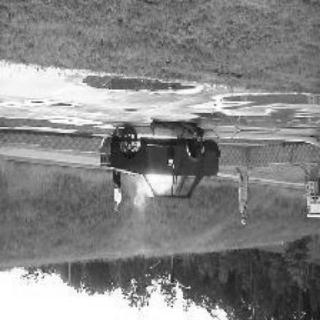Fire: (128, 176, 184, 212), (120, 134, 176, 154), (166, 161, 176, 169)
